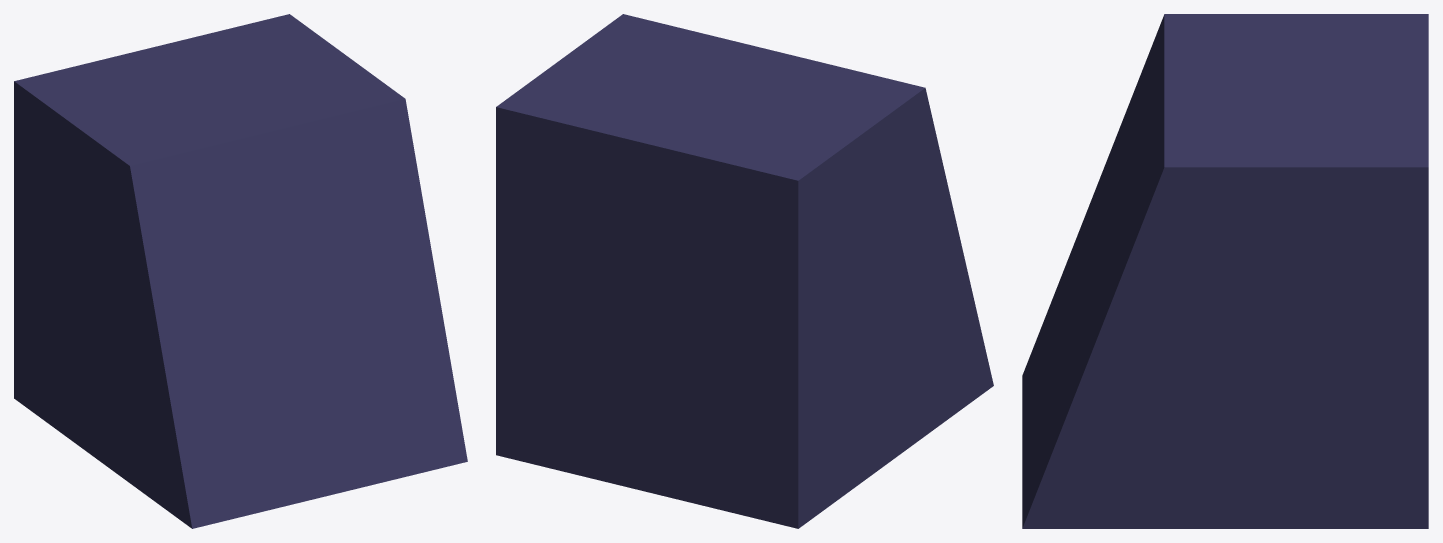
Rendered from BureauLabo1.fbx.
3 renders of one model, left to right at view 1: azimuth 30°, elevation 25°; view 2: azimuth 150°, elevation 25°; view 3: azimuth 270°, elevation 25°, orthographic. The views are drawn at different scales.
Parts seen in each view (by area): view 1: Cube.162; view 2: Cube.162; view 3: Cube.162.
Boxes of the visible parts, bbox=[...] form: Cube.162: bbox=[14, 14, 467, 528]; Cube.162: bbox=[496, 14, 993, 528]; Cube.162: bbox=[1022, 14, 1428, 528].
Bounding box in the file's own units: 211 × 233 × 237.
